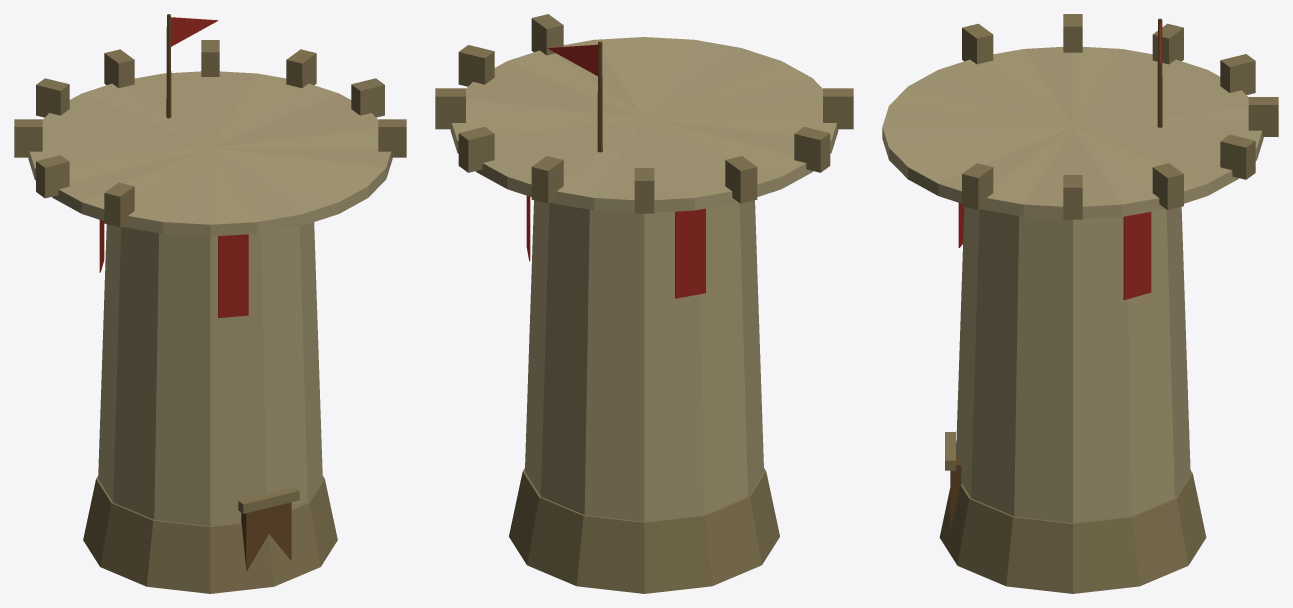
File: tower_steppe.glb
3 renders of one model, left to right at view 1: azimuth 30°, elevation 25°; view 2: azimuth 150°, elevation 25°; view 3: azimuth 270°, elevation 25°, orthographic. The views are drawn at different scales.
Parts seen in each view (by area): view 1: tower_steppe; view 2: tower_steppe; view 3: tower_steppe.
Part boxes in pixels (bbox=[...]): tower_steppe: bbox=[14, 14, 406, 593]; tower_steppe: bbox=[435, 14, 853, 593]; tower_steppe: bbox=[882, 14, 1278, 593].
Size of the model in its own units: 15.1 by 21 by 14.55.
